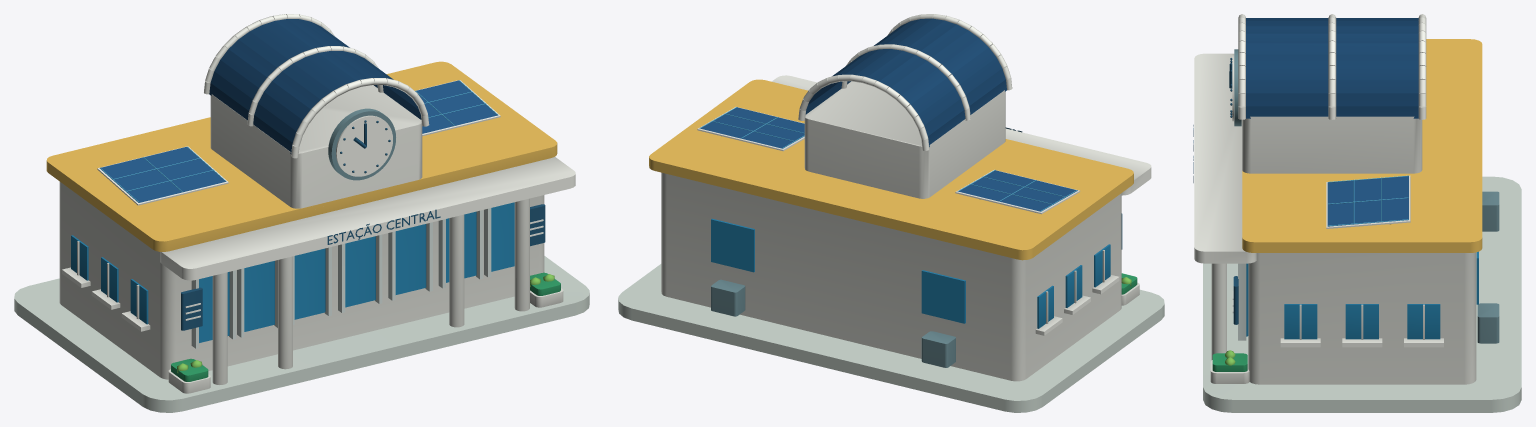
File: central-station-low.glb
The picture shows the model from 3 angles, left to right: view 1: azimuth 30°, elevation 25°; view 2: azimuth 150°, elevation 25°; view 3: azimuth 270°, elevation 25°; orthographic projection. The views are drawn at different scales.
Visible parts, largest first — view 1: station masonry, platform cornice, station forecourt, barrel-vaulted roof, recessed glazing, window stone reveal, hour hand, clock surround, planter foliage, solar cell division; view 2: station masonry, platform cornice, station forecourt, barrel-vaulted roof, recessed glazing, clock surround, solar cell division; view 3: station masonry, platform cornice, barrel-vaulted roof, station forecourt, recessed glazing, clock surround, window stone reveal, planter foliage, hour hand, solar cell division.
Part boxes in pixels (x1,y1,x2,y2): station masonry: (59, 14, 575, 393); platform cornice: (46, 61, 557, 251); station forecourt: (14, 256, 589, 412); barrel-vaulted roof: (99, 19, 497, 202); recessed glazing: (71, 202, 514, 342); window stone reveal: (191, 208, 491, 348); hour hand: (181, 120, 545, 330); clock surround: (328, 108, 395, 180); planter foliage: (171, 272, 560, 381); solar cell division: (100, 80, 497, 202); station masonry: (661, 14, 1151, 381); platform cornice: (649, 79, 1133, 260); station forecourt: (618, 264, 1164, 412); barrel-vaulted roof: (700, 18, 1077, 211); recessed glazing: (711, 218, 1110, 328); clock surround: (711, 279, 955, 367); solar cell division: (700, 107, 1077, 211); station masonry: (1194, 14, 1476, 384); platform cornice: (1242, 39, 1482, 252); barrel-vaulted roof: (1246, 18, 1418, 226); station forecourt: (1203, 176, 1521, 412); recessed glazing: (1246, 251, 1478, 339); clock surround: (1234, 49, 1499, 343); window stone reveal: (1238, 263, 1246, 340); planter foliage: (1212, 353, 1247, 371); hour hand: (1193, 58, 1238, 324); solar cell division: (1328, 175, 1408, 226).
Bounding box in the file's own units: 8.8 × 5.12 × 5.46.
